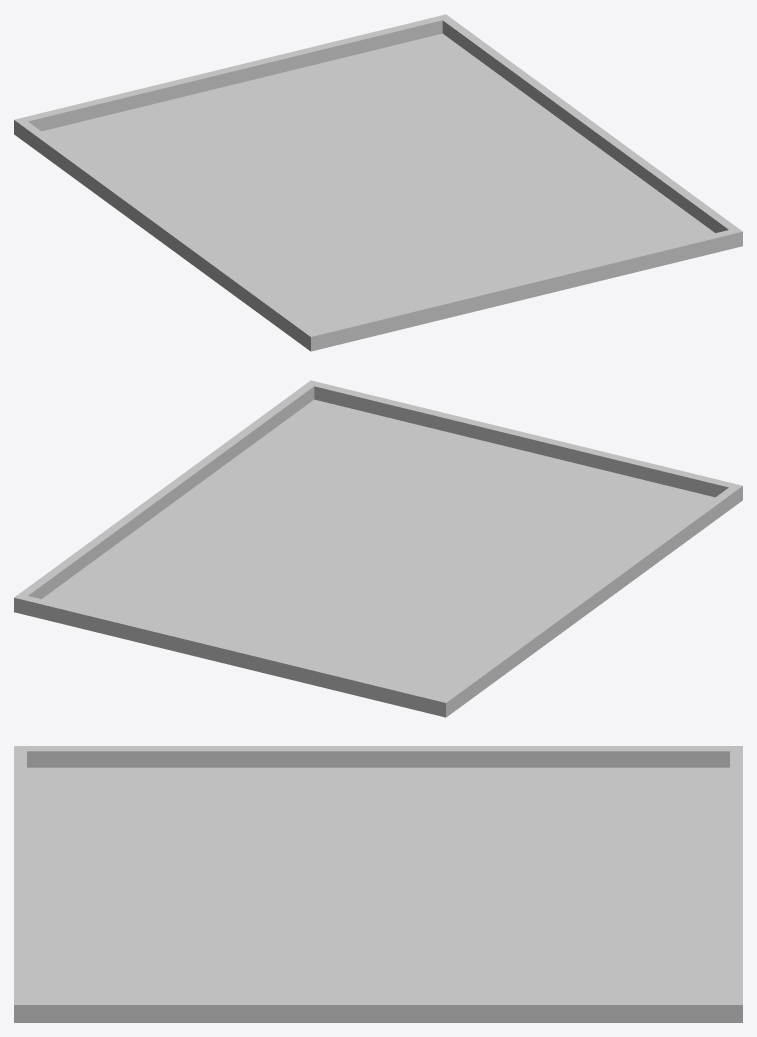
File: C_Tray_2.fbx
3 renders of one model, top to bottom at view 1: azimuth 30°, elevation 25°; view 2: azimuth 150°, elevation 25°; view 3: azimuth 270°, elevation 25°, orthographic. The views are drawn at different scales.
Parts seen in each view (by area): view 1: C_Tray_2; view 2: C_Tray_2; view 3: C_Tray_2.
Boxes of the visible parts, <box> form: C_Tray_2: <box>14,14,742,351</box>; C_Tray_2: <box>14,380,742,717</box>; C_Tray_2: <box>14,746,742,1022</box>.
Size of the model in its own units: 315 by 375 by 10.14.
